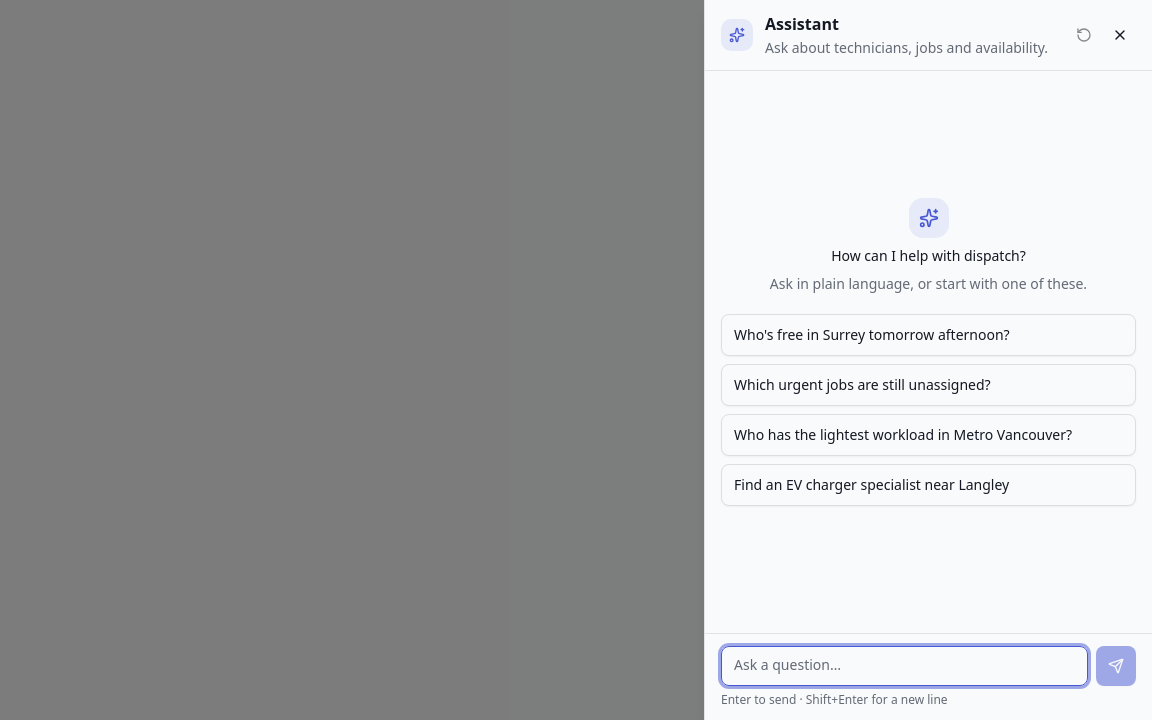
Test: AssistantPanel › shows an error notice when the request fails
In the text box named "Message the assistant": (904, 666) [721,646,1088,686], type "Hello"
Then press Enter
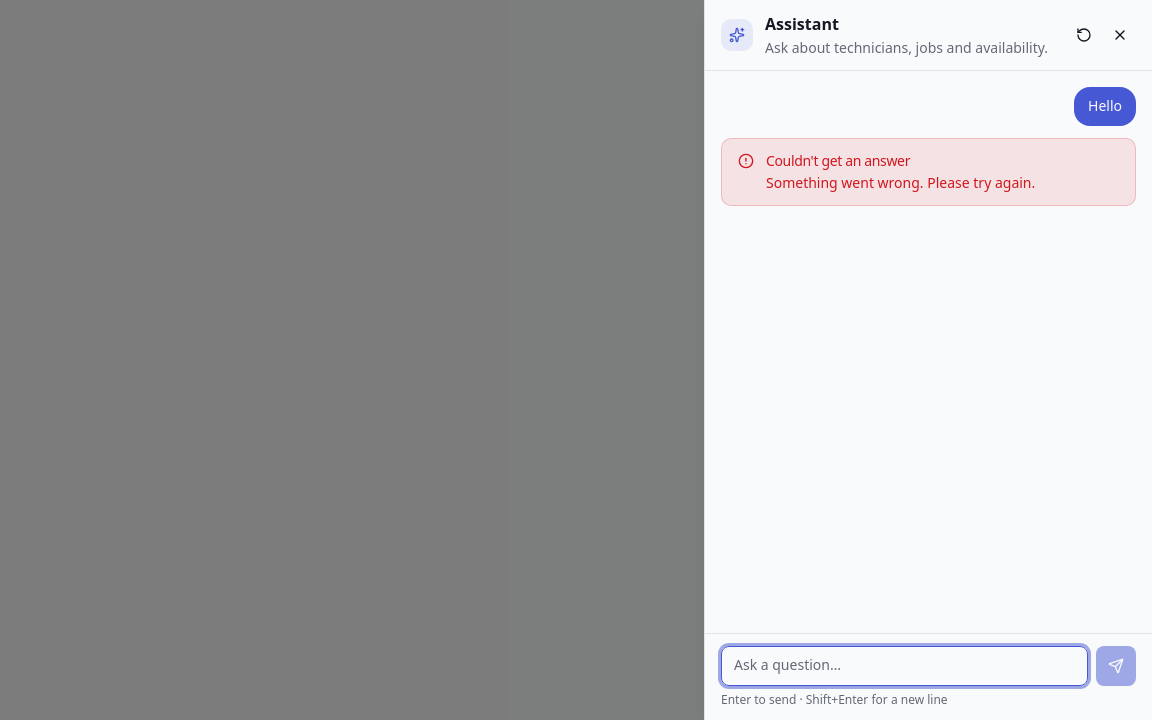
Expected: the message shows "Couldn't get an answer", [766,151,910,170]
Expected: the message shows "Something went wrong. Please try again.", [766,173,1035,192]
